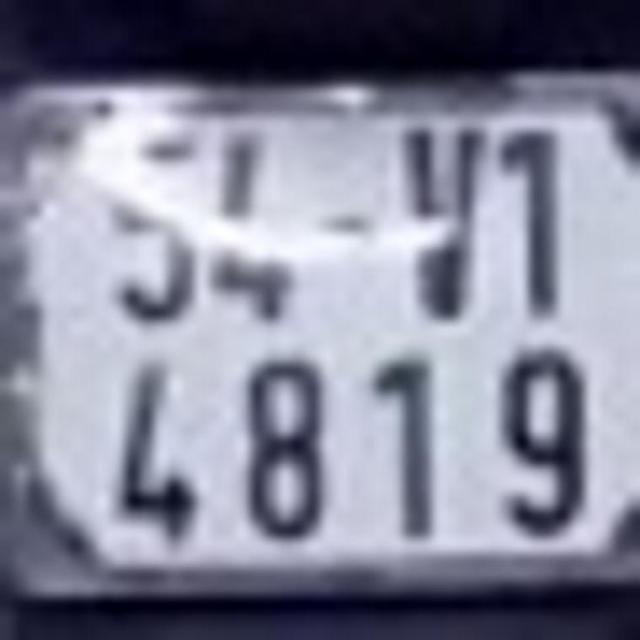1: (370, 340, 442, 540), (504, 112, 562, 315)
4: (110, 351, 202, 548), (211, 130, 292, 321)
5: (110, 122, 196, 328)
8: (244, 355, 327, 536)
9: (497, 337, 587, 537)
V: (399, 121, 483, 321)
